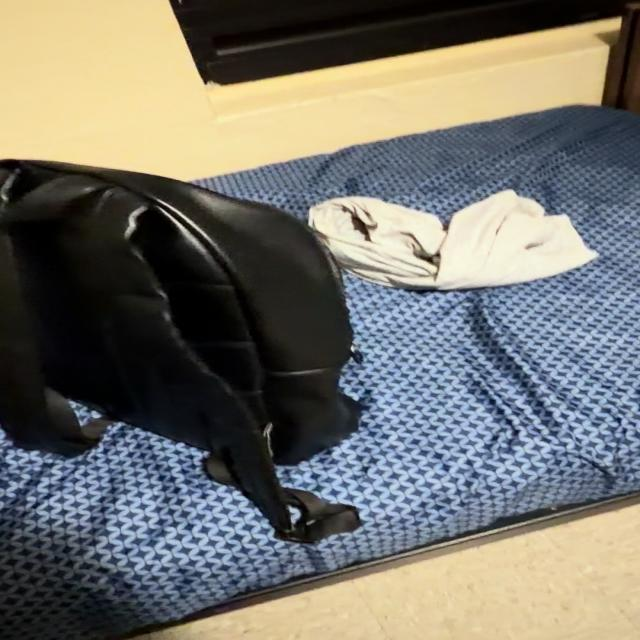backpack: (0, 160, 359, 542)
